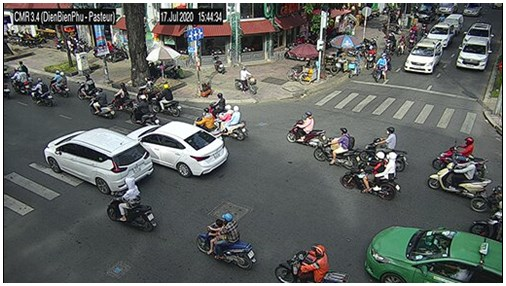xe_hoi: (363, 225, 502, 283), (43, 127, 154, 193), (126, 120, 229, 177), (403, 39, 444, 74), (455, 37, 491, 71), (463, 22, 492, 47), (426, 23, 455, 48), (445, 14, 463, 32)
xe_may: (197, 212, 257, 270), (275, 243, 350, 283), (106, 175, 158, 232), (342, 151, 400, 199), (427, 156, 488, 200), (361, 126, 408, 172), (432, 136, 487, 175), (314, 127, 360, 168), (287, 111, 326, 146), (215, 104, 247, 139), (470, 209, 502, 240), (152, 84, 182, 116), (130, 94, 158, 126), (470, 184, 503, 210), (29, 76, 53, 106), (194, 107, 216, 139), (90, 88, 112, 119), (47, 70, 71, 98), (235, 65, 257, 95), (112, 83, 132, 111), (77, 73, 97, 100), (11, 67, 31, 94), (372, 53, 388, 83), (385, 34, 397, 54), (397, 35, 406, 56)
